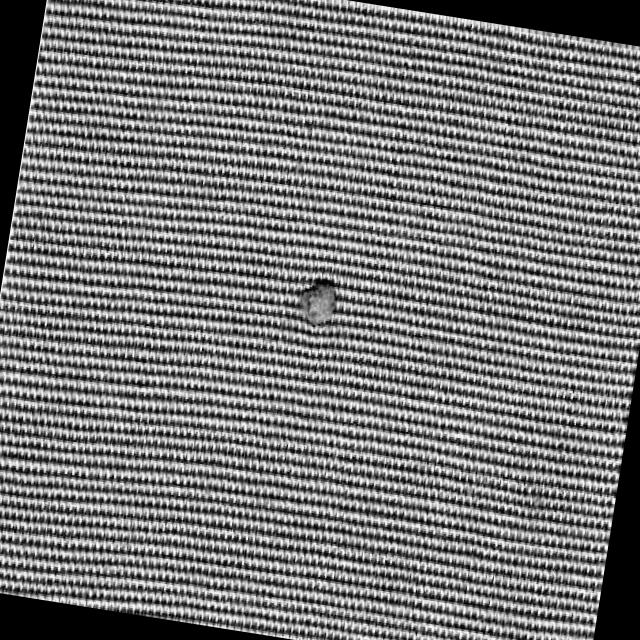cut: (277, 253, 359, 360)
